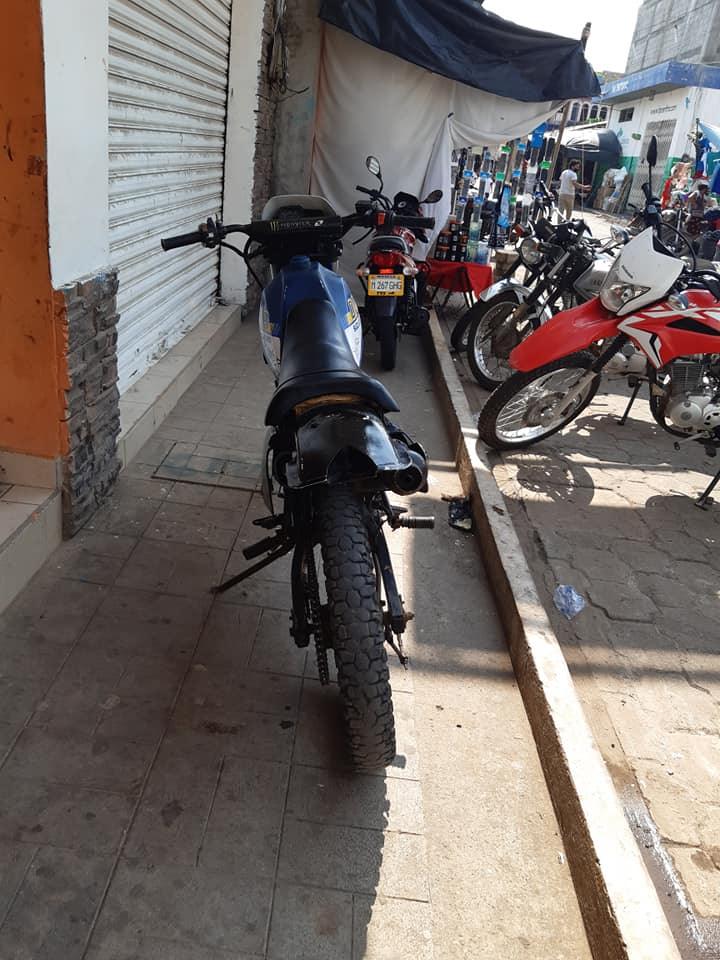moto: (156, 182, 493, 785)
